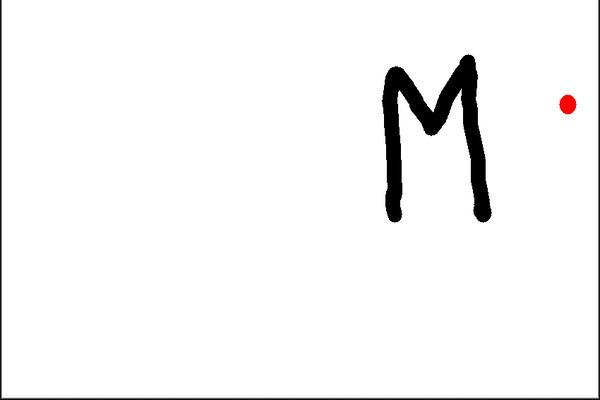M: (374, 50, 490, 221)
